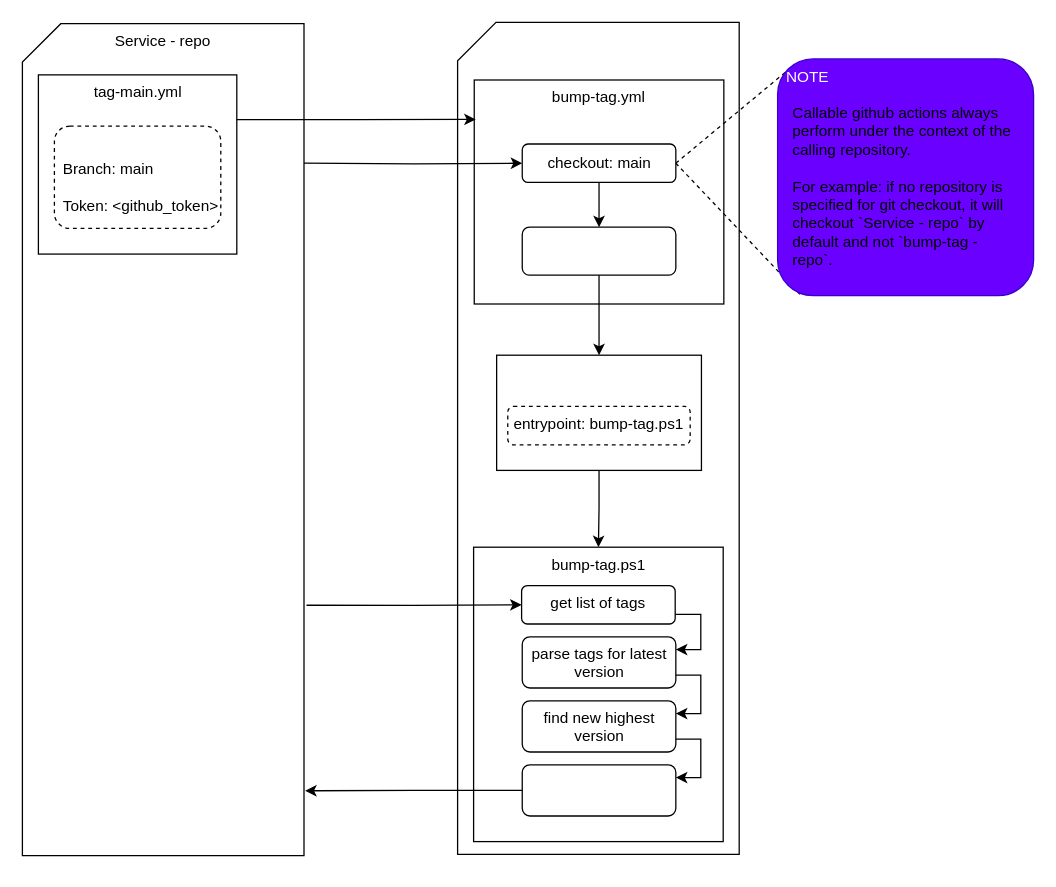
The diagram is 1056 pixels wide and 887 high, and some of its shapes have lost their labels. Each missing label, with the box of its shape:
Bump-Tag - repo: (456, 21, 739, 854)
call bump-tag.ps1: (521, 226, 676, 275)
config: (53, 125, 221, 228)
create new tag of <branch>: (521, 764, 676, 816)
Dockerfile: (495, 354, 701, 470)
